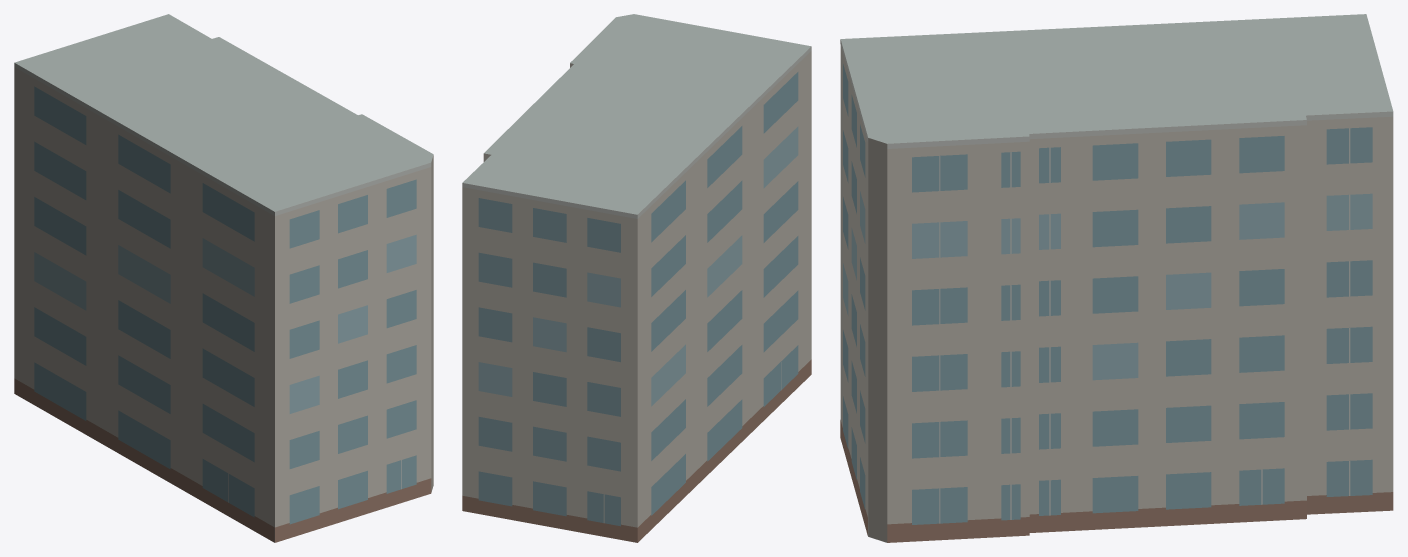
The model's file is survey-upis-33046737.glb.
The picture shows the model from 3 angles, left to right: view 1: azimuth 30°, elevation 25°; view 2: azimuth 150°, elevation 25°; view 3: azimuth 270°, elevation 25°; orthographic projection. The views are drawn at different scales.
Parts seen in each view (by area): view 1: survey-upis-33046737.tmp; view 2: survey-upis-33046737.tmp; view 3: survey-upis-33046737.tmp.
Boxes of the visible parts, left/top/right/bottom form: survey-upis-33046737.tmp: left=14, top=14, right=433, bottom=542; survey-upis-33046737.tmp: left=462, top=14, right=811, bottom=542; survey-upis-33046737.tmp: left=840, top=14, right=1393, bottom=542.
Bounding box in the file's own units: 12.98 × 18.6 × 23.36.
